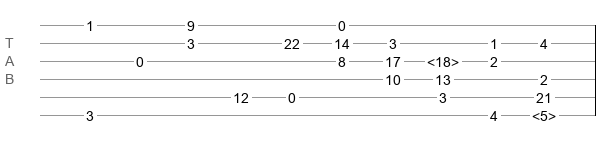0: (136, 54, 144, 64), (288, 90, 296, 100), (338, 18, 346, 28)
1: (86, 18, 94, 28), (490, 36, 498, 46)
10: (385, 72, 401, 82)
12: (233, 90, 249, 100)
13: (435, 72, 451, 82)
14: (334, 36, 350, 46)
17: (385, 54, 401, 64)
2: (490, 54, 498, 64), (540, 72, 548, 82)
21: (536, 90, 552, 100)
22: (284, 36, 300, 46)
3: (86, 108, 94, 118), (187, 36, 195, 46), (389, 36, 397, 46), (439, 90, 447, 100)
4: (490, 108, 498, 118), (540, 36, 548, 46)
8: (338, 54, 346, 64)
9: (187, 18, 195, 28)
harmonic: (427, 54, 459, 64), (532, 108, 556, 118)
